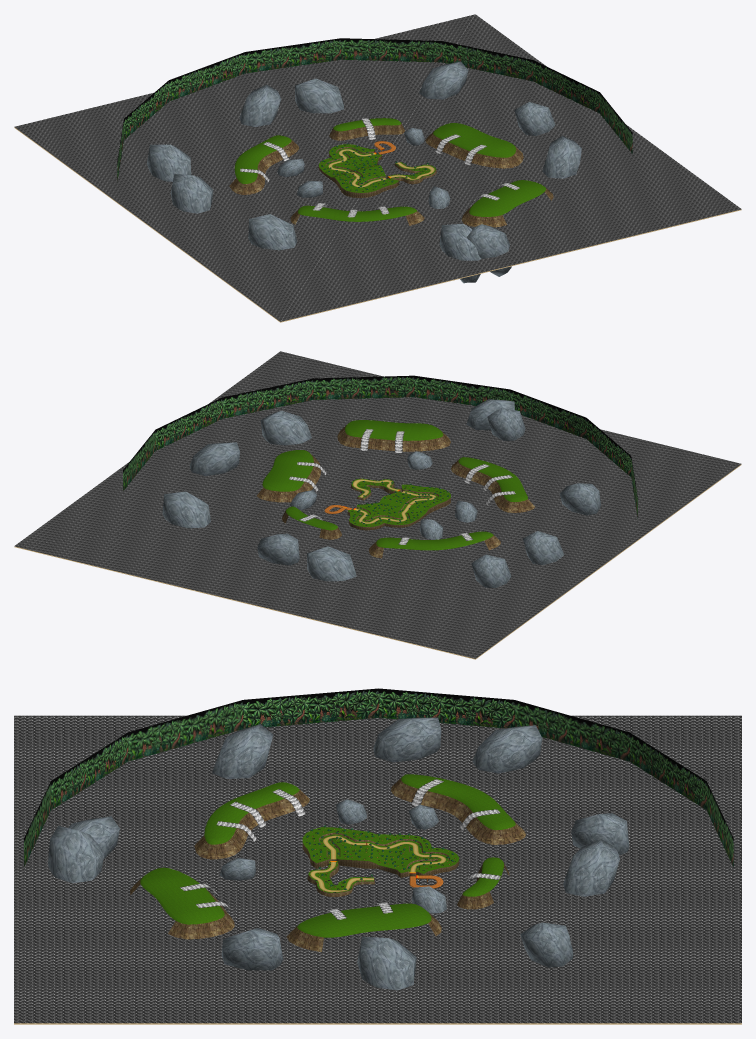
The picture shows the model from 3 angles, top to bottom: view 1: azimuth 30°, elevation 25°; view 2: azimuth 150°, elevation 25°; view 3: azimuth 270°, elevation 25°; orthographic projection. The views are drawn at different scales.
Parts seen in each view (by area): view 1: pochaMesh, stoneMesh, bgMesh, grassMesh.002, rockMesh.001, fallsMesh, sandMesh, roadMesh; view 2: pochaMesh, stoneMesh, bgMesh, grassMesh.002, rockMesh.001, fallsMesh, sandMesh, roadMesh; view 3: pochaMesh, stoneMesh, bgMesh, grassMesh.002, rockMesh.001, fallsMesh, sandMesh, roadMesh, leafMesh.
Part boxes in pixels (x1=…): pochaMesh: x1=14, y1=14, x2=741, y2=321; stoneMesh: x1=147, y1=61, x2=581, y2=283; bgMesh: x1=117, y1=38, x2=632, y2=181; grassMesh.002: x1=234, y1=118, x2=545, y2=221; rockMesh.001: x1=229, y1=123, x2=553, y2=227; fallsMesh: x1=240, y1=118, x2=519, y2=217; sandMesh: x1=14, y1=127, x2=741, y2=322; roadMesh: x1=328, y1=149, x2=434, y2=187; pochaMesh: x1=14, y1=351, x2=741, y2=658; stoneMesh: x1=162, y1=399, x2=600, y2=587; bgMesh: x1=123, y1=375, x2=637, y2=518; grassMesh.002: x1=262, y1=420, x2=527, y2=550; rockMesh.001: x1=256, y1=425, x2=534, y2=558; fallsMesh: x1=289, y1=429, x2=515, y2=544; sandMesh: x1=14, y1=464, x2=741, y2=659; roadMesh: x1=352, y1=479, x2=436, y2=523; pochaMesh: x1=14, y1=715, x2=741, y2=1023; stoneMesh: x1=48, y1=717, x2=629, y2=990; bgMesh: x1=24, y1=688, x2=733, y2=866; grassMesh.002: x1=140, y1=774, x2=515, y2=937; rockMesh.001: x1=130, y1=778, x2=525, y2=951; fallsMesh: x1=180, y1=779, x2=500, y2=919; sandMesh: x1=14, y1=1023, x2=741, y2=1024; roadMesh: x1=310, y1=835, x2=446, y2=892; leafMesh: x1=306, y1=825, x2=454, y2=889.
Bounding box in the file's own units: 382930 × 41381 × 382930.
Materials: 15 (15 with a texture image).
